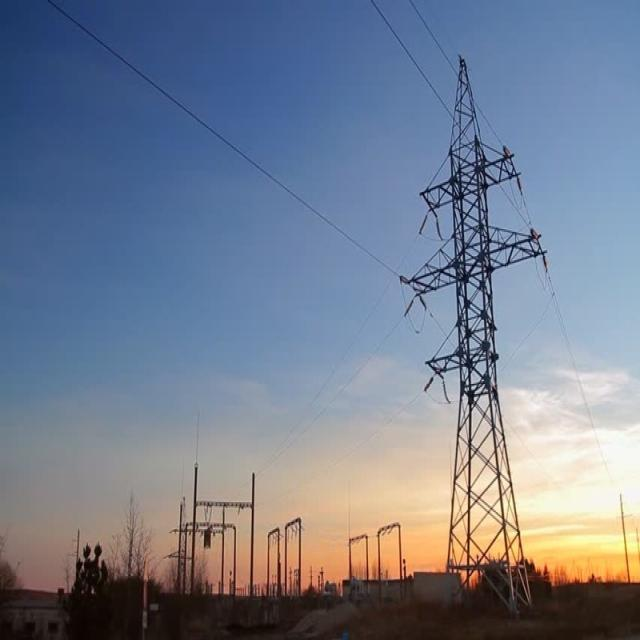non-critical vegetation: (416, 38, 548, 606)
